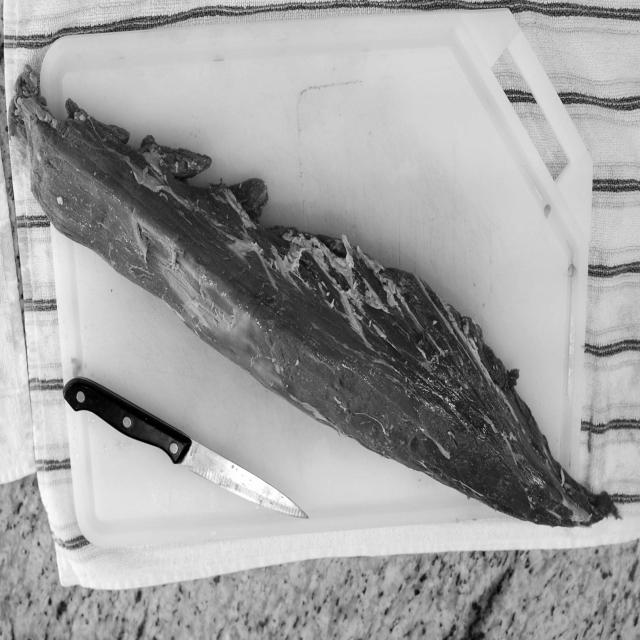filet: (19, 60, 567, 518)
